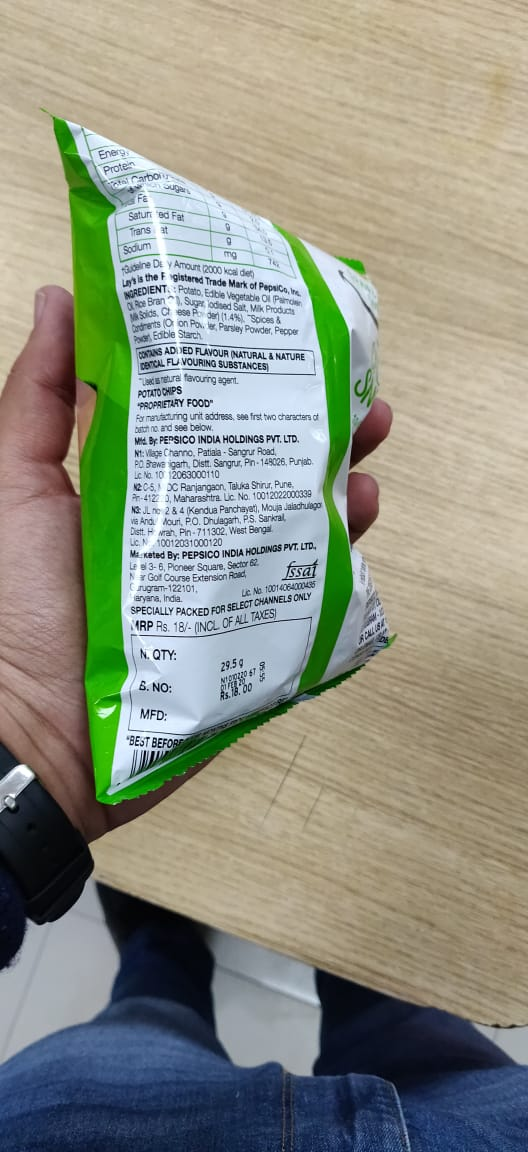lays chips: (45, 97, 417, 806)
